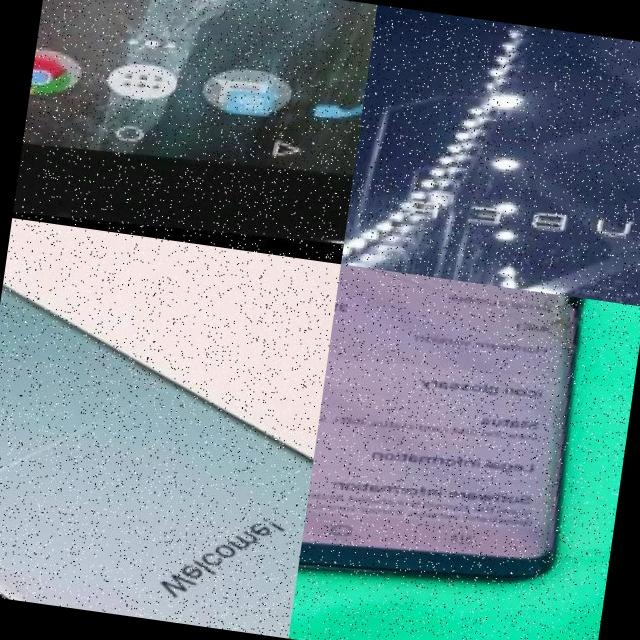screen crack: (329, 264, 628, 382)
